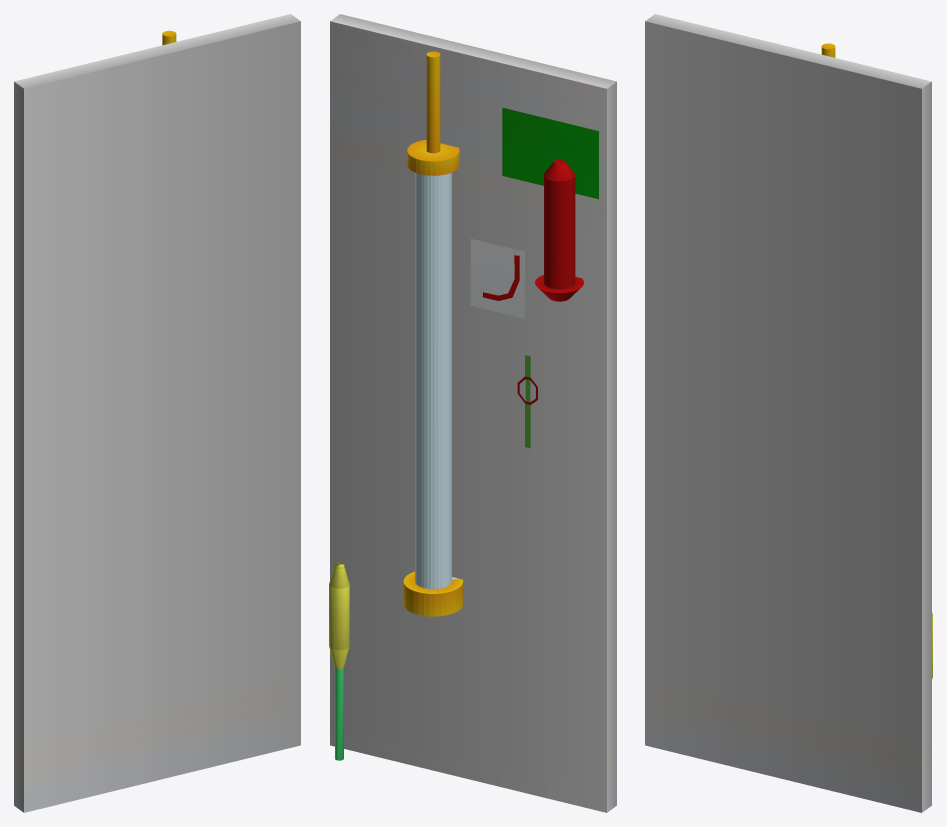
File: Torre de pared Húmeda.fbx
3 renders of one model, left to right at view 1: azimuth 30°, elevation 25°; view 2: azimuth 150°, elevation 25°; view 3: azimuth 330°, elevation 25°, orthographic.
Visible parts, largest first — view 1: Cube; view 2: Cube; view 3: Cube.
Boxes of the visible parts, x1,y1,x2,y2 form: Cube: [14, 14, 300, 812]; Cube: [329, 14, 616, 812]; Cube: [645, 14, 932, 812].
Bounding box in the file's own units: 80 × 200 × 17.05.
